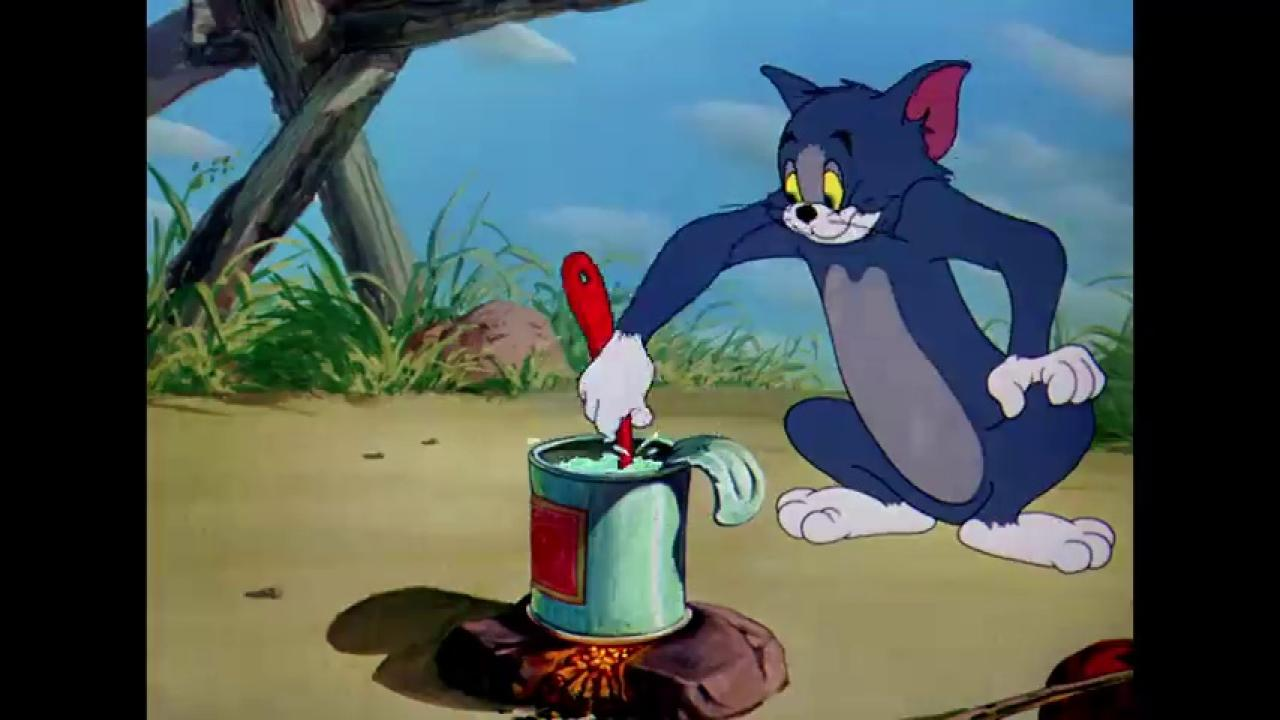Tom: (577, 56, 1118, 574)
